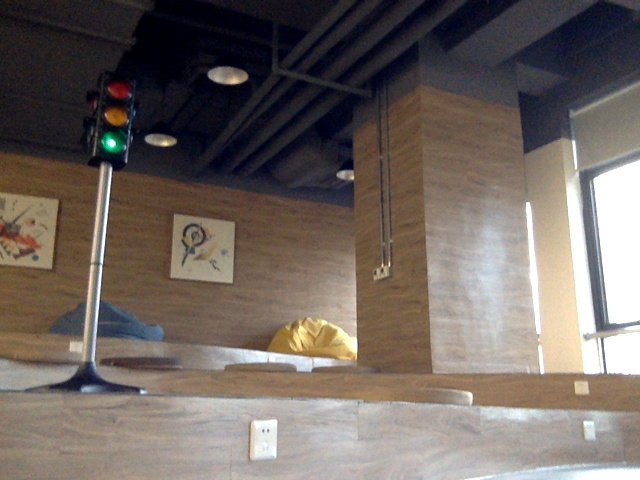green: (98, 81, 133, 161)
